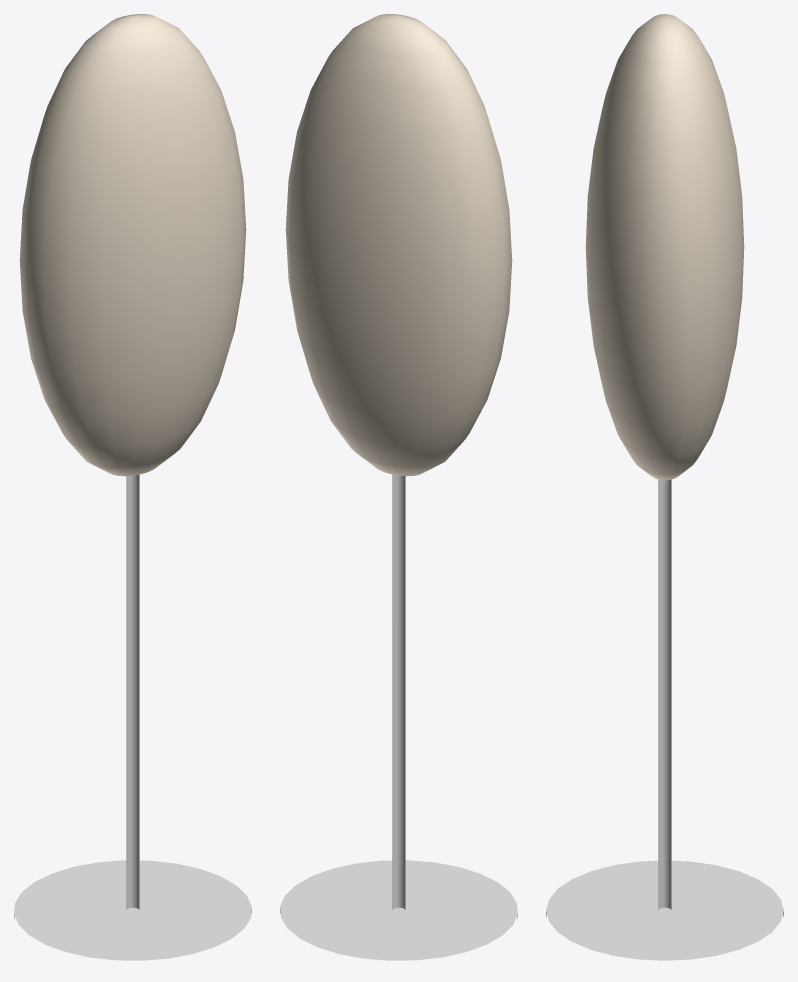
The picture shows the model from 3 angles, left to right: view 1: azimuth 30°, elevation 25°; view 2: azimuth 150°, elevation 25°; view 3: azimuth 270°, elevation 25°; orthographic projection.
Size of the model in its own units: 0.37 by 1.5 by 0.36.
